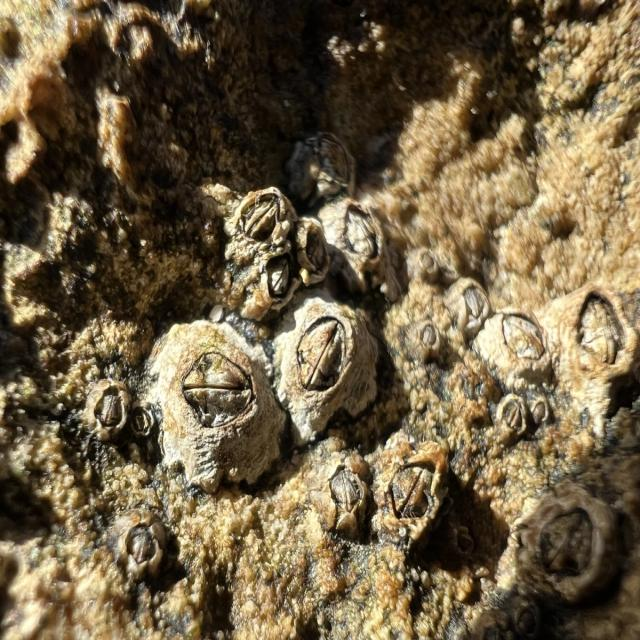barnacles: (146, 320, 284, 490), (272, 307, 382, 444), (515, 493, 617, 615), (551, 284, 639, 410), (374, 432, 454, 565), (328, 206, 394, 302), (289, 118, 363, 201), (314, 451, 372, 538), (487, 311, 550, 387), (228, 184, 292, 255), (104, 513, 164, 580), (240, 253, 296, 317), (444, 268, 493, 338), (76, 377, 130, 438), (300, 218, 334, 290), (403, 241, 446, 287), (495, 395, 532, 445), (408, 321, 443, 368)
